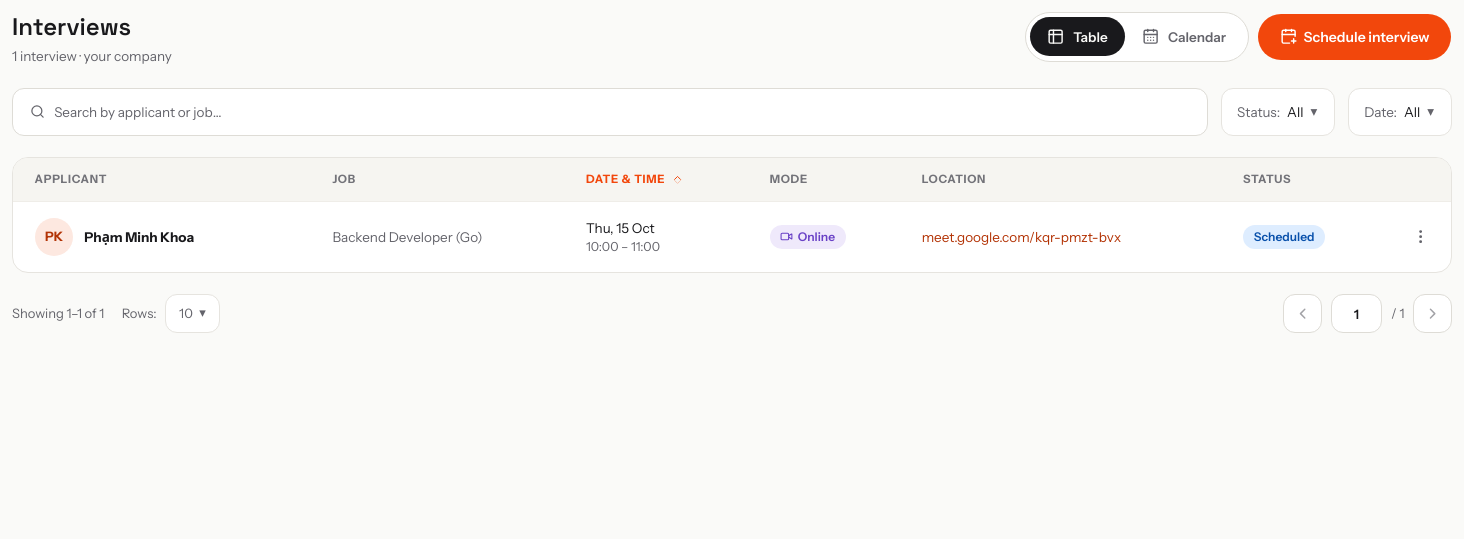
Scenario: Interview status actions in the table › offers an ended interview to be completed, marked no-show or cancelled
What coordinates should you click on to do the following:
click the button named "Actions for Phạm Minh Khoa"
I would click on:
 (1421, 237)
Its box is x1=1404 y1=220 x2=1438 y2=254.
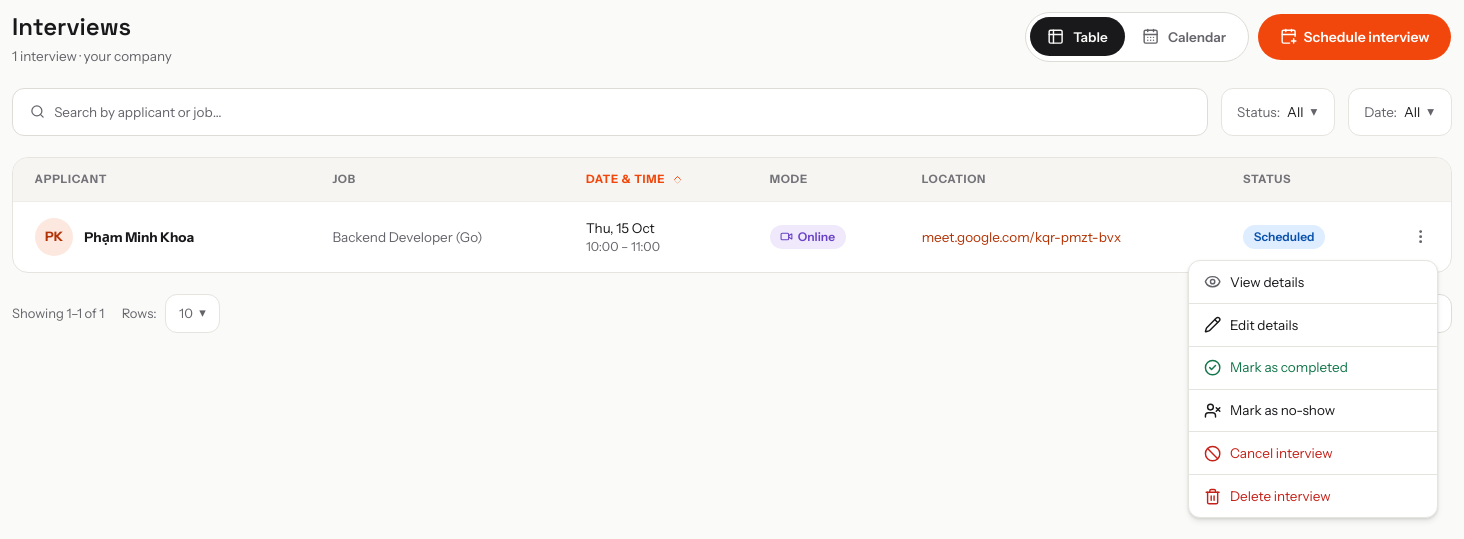
Check: the menu item "Mark as no-show" is shown, box x1=1189 y1=388 x2=1437 y2=431
Check: the menu item "Cancel interview" is shown, box x1=1189 y1=431 x2=1437 y2=474
